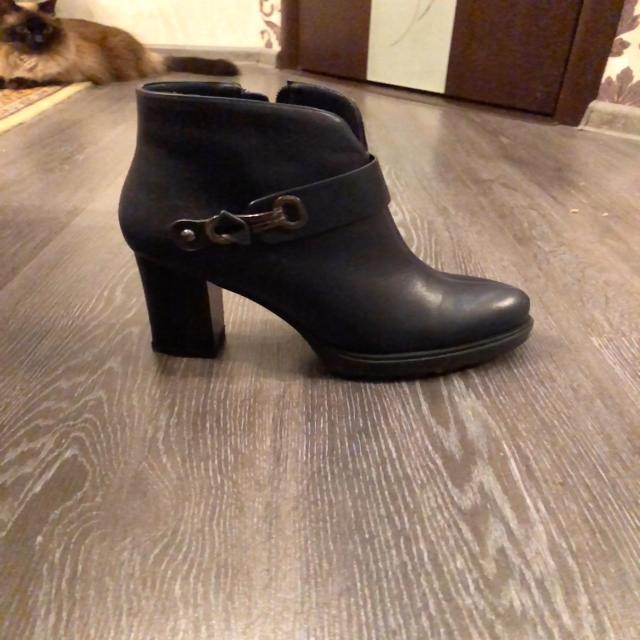shoe: (120, 79, 535, 385)
